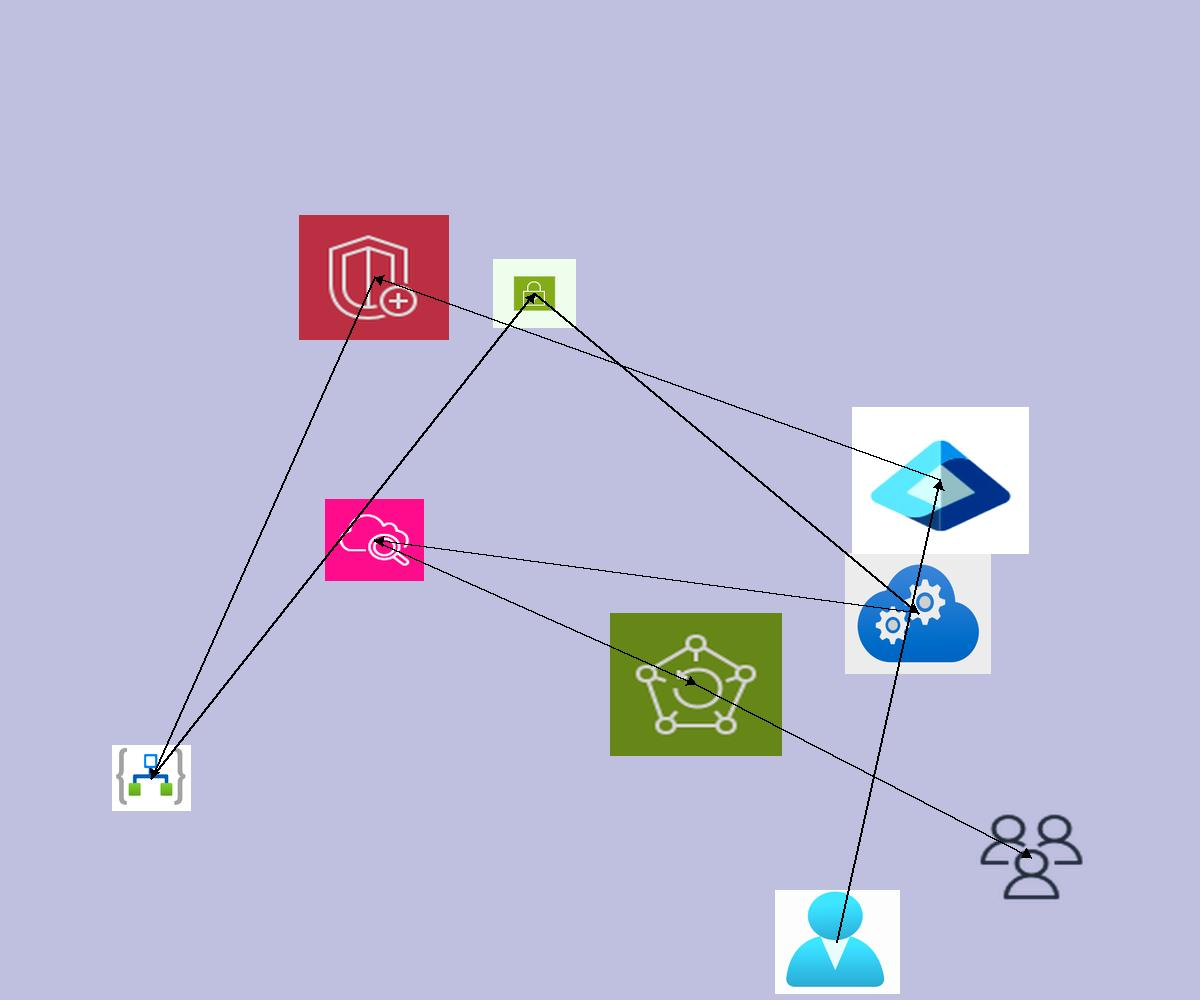AWS-Backup: (610, 613, 782, 756)
AWS-CloudWatch: (325, 499, 424, 581)
AWS-Public-subnet: (493, 259, 576, 328)
AWS-Res_Users: (976, 811, 1087, 903)
AWS-Shield: (299, 215, 449, 340)
Azure_cloud_services: (845, 553, 991, 674)
Azure_integration-204-Logic-Apps: (112, 745, 191, 811)
Azure_microsoft_entra: (852, 407, 1029, 554)
Azure_users: (775, 890, 900, 994)
